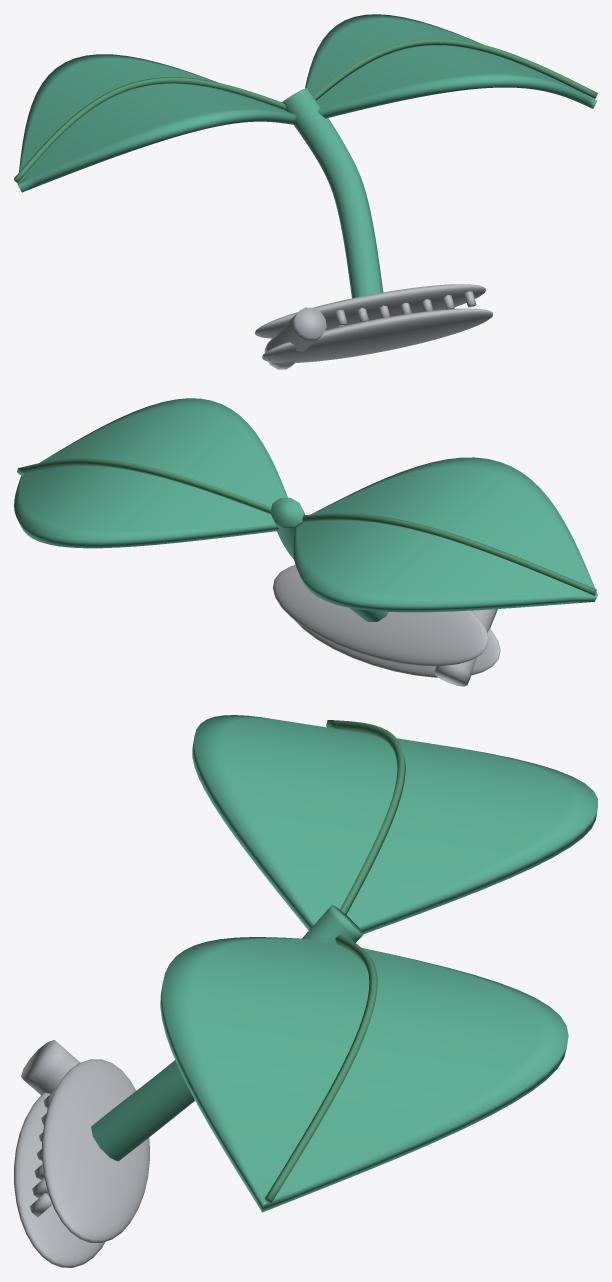
File: Masculine-locs-ears260-sprout.glb
3 renders of one model, top to bottom at view 1: azimuth 30°, elevation 25°; view 2: azimuth 150°, elevation 25°; view 3: azimuth 270°, elevation 25°, orthographic. The views are drawn at different scales.
Visible parts, largest first — view 1: 226 extra / Accessory / mint226, 226 extra / Sprout / clip silver235, 226 extra / Sprout / leaf vein235; view 2: 226 extra / Accessory / mint226, 226 extra / Sprout / clip silver235, 226 extra / Sprout / leaf vein235; view 3: 226 extra / Accessory / mint226, 226 extra / Sprout / clip silver235, 226 extra / Sprout / leaf vein235.
Boxes of the visible parts, left/top/right/bottom form: 226 extra / Accessory / mint226: left=17, top=14, right=597, bottom=298; 226 extra / Sprout / clip silver235: left=255, top=284, right=492, bottom=369; 226 extra / Sprout / leaf vein235: left=14, top=38, right=597, bottom=183; 226 extra / Accessory / mint226: left=14, top=398, right=597, bottom=621; 226 extra / Sprout / clip silver235: left=272, top=565, right=500, bottom=686; 226 extra / Sprout / leaf vein235: left=17, top=458, right=596, bottom=595; 226 extra / Accessory / mint226: left=91, top=715, right=597, bottom=1212; 226 extra / Sprout / clip silver235: left=14, top=1040, right=149, bottom=1267; 226 extra / Sprout / leaf vein235: left=265, top=720, right=405, bottom=1203.
Size of the model in its own units: 0.2705 by 0.1129 by 0.1584.
